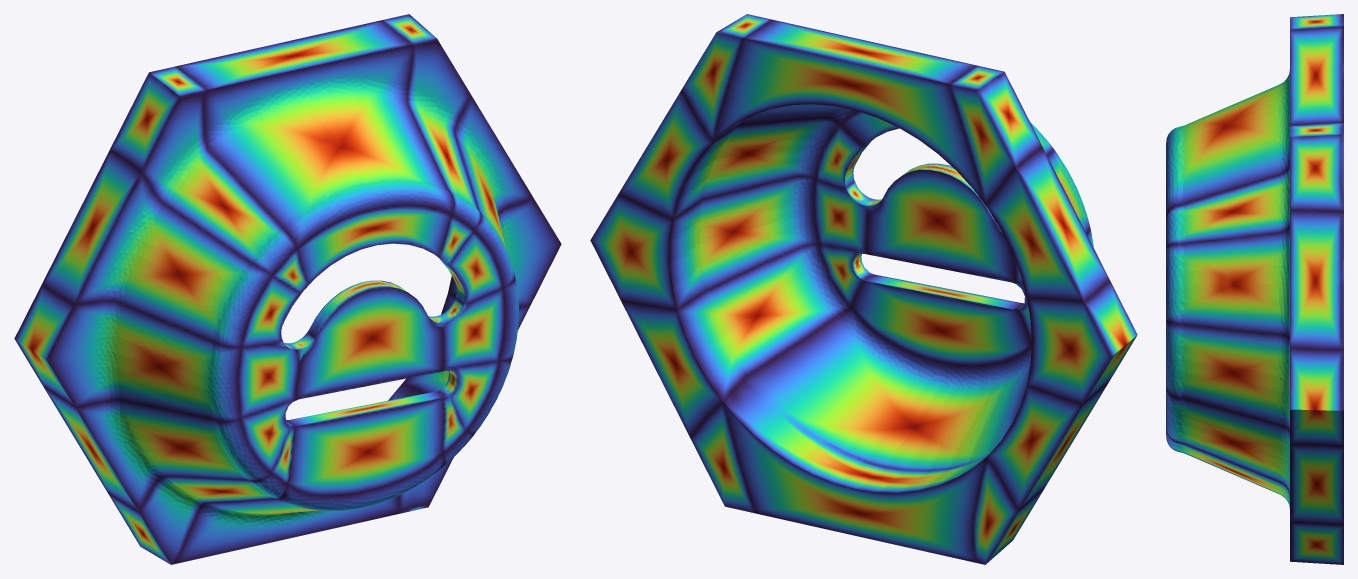
Rendered from gen1.glb.
The picture shows the model from 3 angles, left to right: view 1: azimuth 30°, elevation 25°; view 2: azimuth 150°, elevation 25°; view 3: azimuth 270°, elevation 25°; orthographic projection. The views are drawn at different scales.
Parts seen in each view (by area): view 1: Node; view 2: Node; view 3: Node.
Part boxes in pixels (box(x1,y1,x2,y2)): Node: box(14, 14, 561, 564); Node: box(590, 14, 1137, 564); Node: box(1166, 14, 1343, 564).
Size of the model in its own units: 103 by 89.79 by 33.
Materials: 1 (1 with a texture image).
